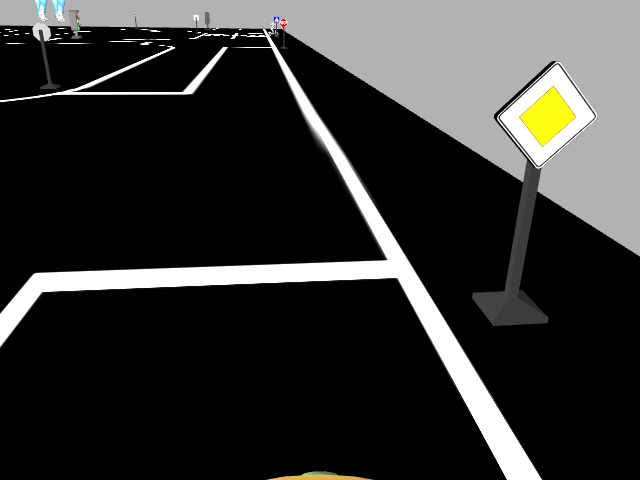Priority: (494, 55, 597, 169)
